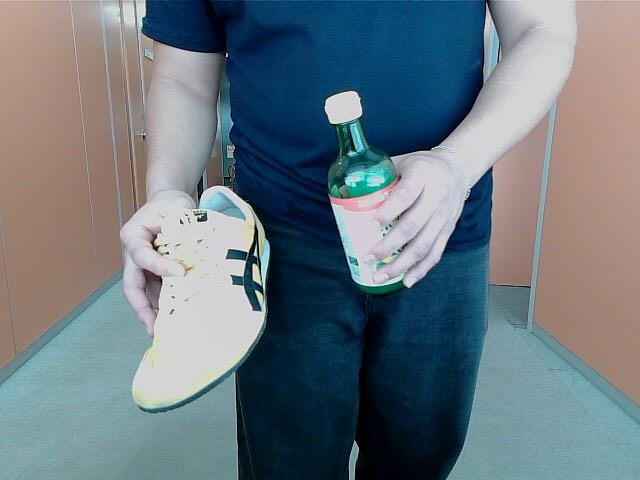Lemon_sapporo: (320, 89, 418, 295)
Shoes: (133, 185, 270, 423)
